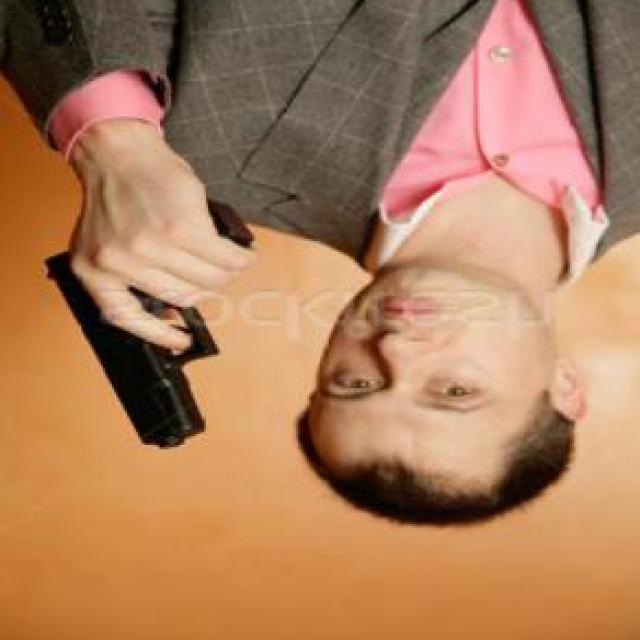pistol: (33, 197, 252, 471)
